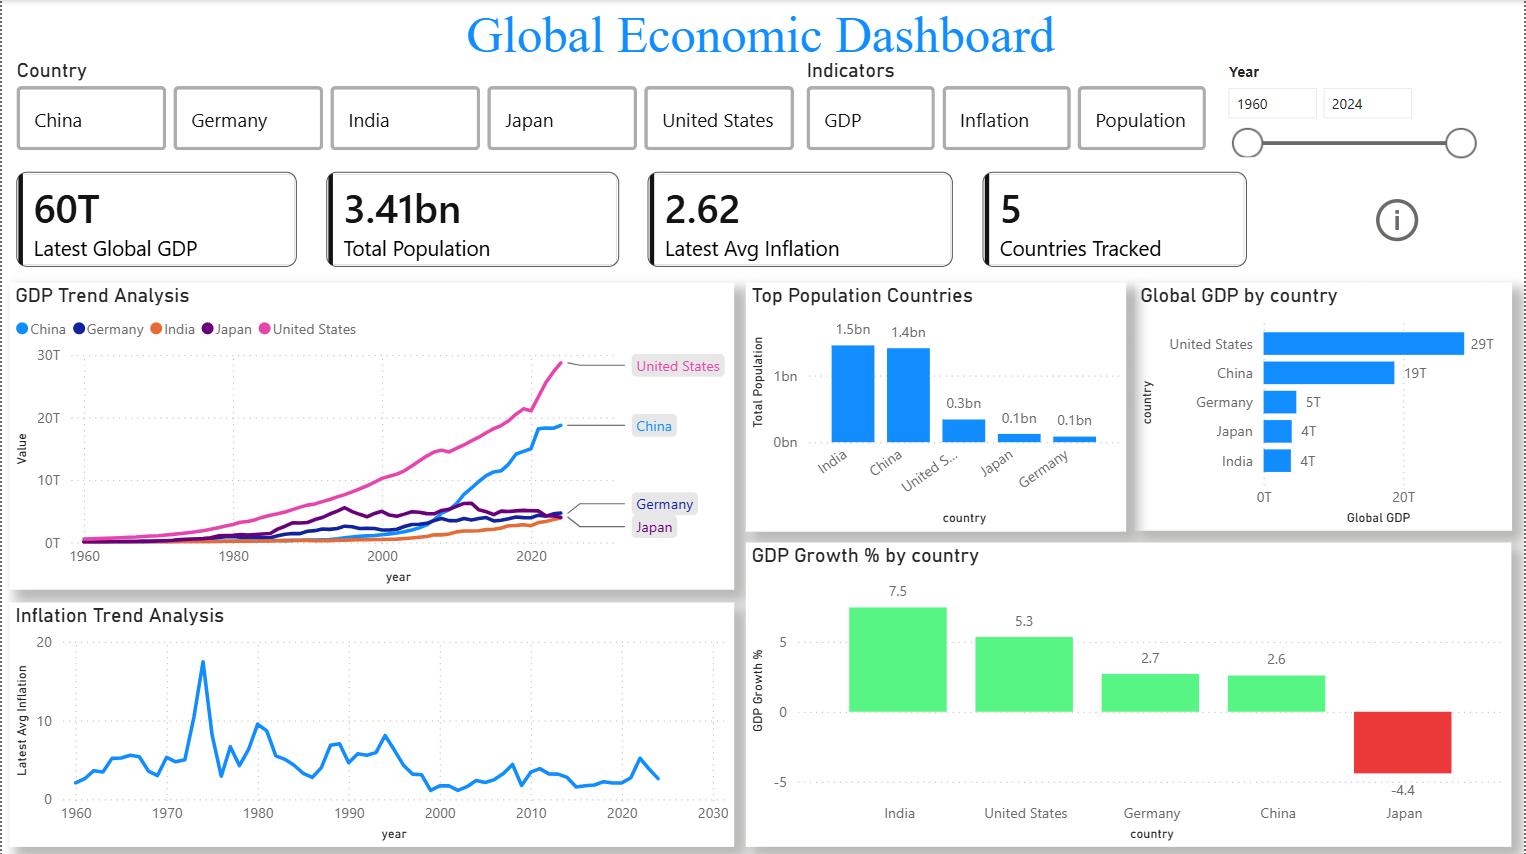

The dashboard page shown, as its layout file describes it:
{"tool":"powerbi","page":{"name":"Executive Overview","canvas":[1280,720],"ordinal":0},"visuals":[{"type":"textbox","box":[6.8,0,1263.5,59.8],"z":0},{"type":"actionButton","box":[1150,161.6,50,46.5],"z":1000},{"type":"advancedSlicerVisual","title":"Indicators","fields":{"Values":["economic_analytics economic_data.indicator"]},"box":[672.1,48.8,346.5,83.7],"z":2000},{"type":"cardVisual","fields":{"Data":["economic_analytics economic_data.Latest GDP"]},"box":[0,132.6,260.5,104.7],"z":3000},{"type":"cardVisual","fields":{"Data":["economic_analytics economic_data.Average Inflation"]},"box":[531.4,132.6,281.4,104.7],"z":4000},{"type":"cardVisual","fields":{"Data":["economic_analytics economic_data.Total Population"]},"box":[260.5,132.6,270.9,104.7],"z":5000},{"type":"lineChart","title":"GDP Trend Analysis","fields":{"Category":["economic_analytics economic_data.year"],"Series":["economic_analytics economic_data.country"],"Y":["Sum(economic_analytics economic_data.value)"]},"box":[6.8,237.1,609.7,258.6],"z":6000},{"type":"slicer","fields":{"Values":["economic_analytics economic_data.year"]},"box":[1018.6,48.8,229.1,100],"z":7000},{"type":"cardVisual","fields":{"Data":["Count(economic_analytics economic_data.country)"]},"box":[812.8,132.6,246.5,104.7],"z":8000},{"type":"clusteredBarChart","fields":{"Category":["economic_analytics economic_data.country"],"Y":["economic_analytics economic_data.Global GDP"]},"box":[953,237.1,317.3,208.9],"z":9000},{"type":"lineChart","title":"Inflation Trend Analysis","fields":{"Category":["economic_analytics economic_data.year"],"Y":["economic_analytics economic_data.Latest Avg Inflation"]},"box":[6.8,507,609.7,205.5],"z":10000},{"type":"columnChart","title":"Top Population Countries","fields":{"Category":["economic_analytics economic_data.country"],"Y":["economic_analytics economic_data.Total Population"]},"box":[625.6,237.2,319.8,209.3],"z":11000},{"type":"advancedSlicerVisual","title":"Country","fields":{"Values":["economic_analytics economic_data.country"]},"box":[7,48.8,665.1,83.7],"z":12000},{"type":"clusteredColumnChart","fields":{"Category":["economic_analytics economic_data.country"],"Y":["economic_analytics economic_data.GDP Growth %"]},"box":[625.6,455.8,644.2,255.8],"z":13000}]}

Visuals, with their boxes in screenshot pixels (x1, y1, x2, y2), scaled from the page's 1280x720 canvas onto the 1526x854 screenshot:
textbox: pyautogui.locateOnScreen(8, 0, 1514, 71)
actionButton: pyautogui.locateOnScreen(1371, 192, 1431, 247)
"Indicators" advancedSlicerVisual: pyautogui.locateOnScreen(801, 58, 1214, 157)
cardVisual - economic_analytics economic_data.Latest GDP: pyautogui.locateOnScreen(0, 157, 311, 281)
cardVisual - economic_analytics economic_data.Average Inflation: pyautogui.locateOnScreen(634, 157, 969, 281)
cardVisual - economic_analytics economic_data.Total Population: pyautogui.locateOnScreen(311, 157, 634, 281)
"GDP Trend Analysis" lineChart: pyautogui.locateOnScreen(8, 281, 735, 588)
slicer - economic_analytics economic_data.year: pyautogui.locateOnScreen(1214, 58, 1487, 176)
cardVisual - Count(economic_analytics economic_data.country): pyautogui.locateOnScreen(969, 157, 1263, 281)
clusteredBarChart - economic_analytics economic_data.country x economic_analytics economic_data.Global GDP: pyautogui.locateOnScreen(1136, 281, 1514, 529)
"Inflation Trend Analysis" lineChart: pyautogui.locateOnScreen(8, 601, 735, 845)
"Top Population Countries" columnChart: pyautogui.locateOnScreen(746, 281, 1127, 530)
"Country" advancedSlicerVisual: pyautogui.locateOnScreen(8, 58, 801, 157)
clusteredColumnChart - economic_analytics economic_data.country x economic_analytics economic_data.GDP Growth %: pyautogui.locateOnScreen(746, 541, 1514, 844)
